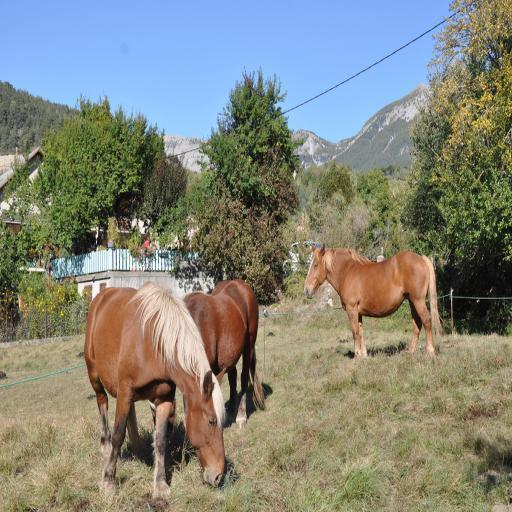horse: (82, 276, 228, 496), (152, 276, 266, 452), (304, 244, 446, 357)
